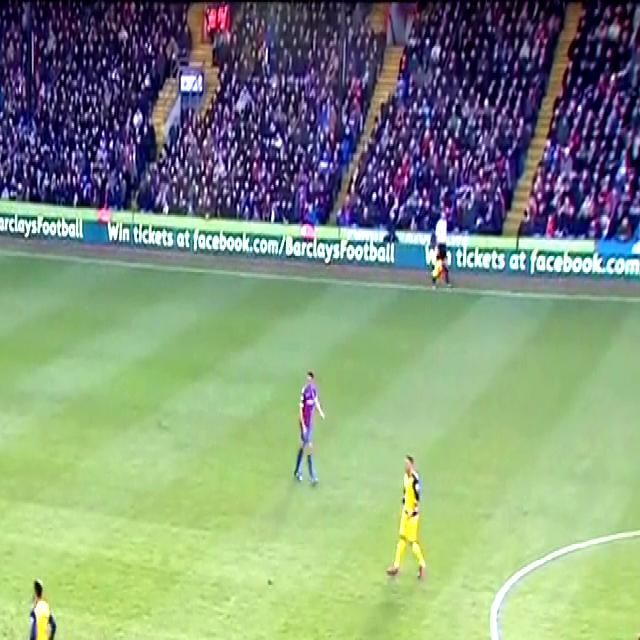soccer-player: (377, 454, 432, 594), (287, 364, 340, 492), (7, 578, 90, 640), (601, 629, 640, 640)
